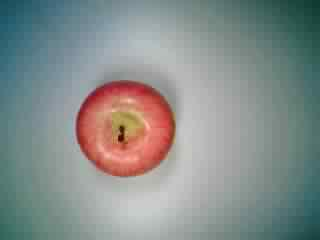apple: (73, 74, 177, 178)
